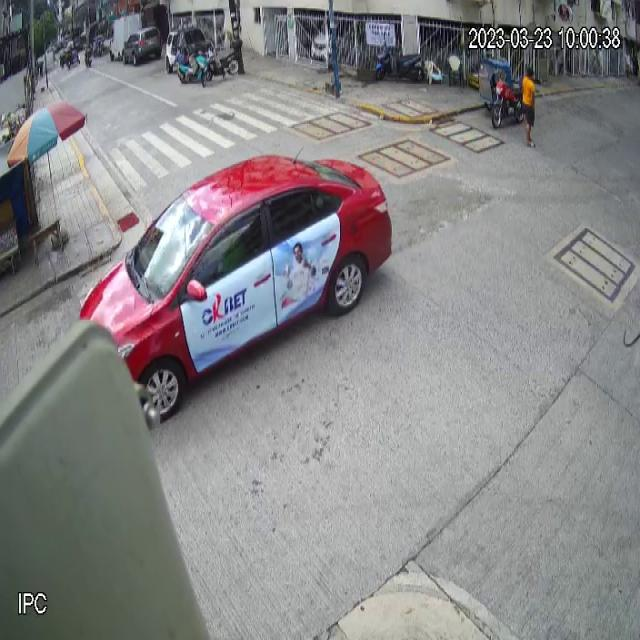Car: (77, 150, 394, 430)
